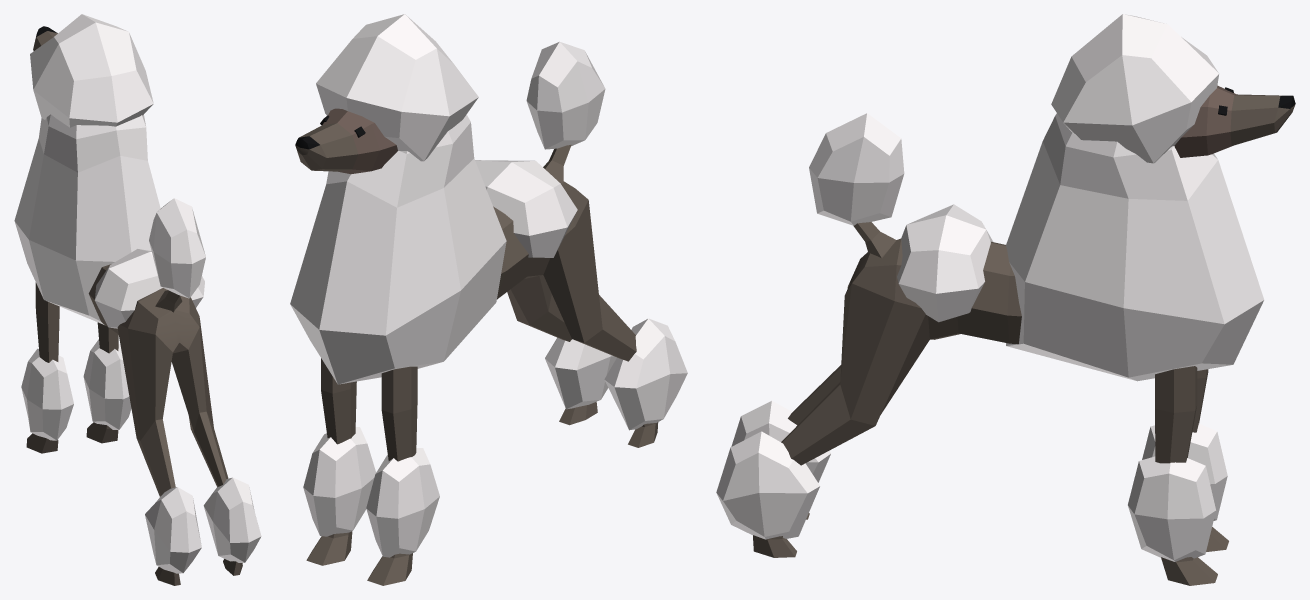
File: Mesh_Poodle.obj
3 renders of one model, left to right at view 1: azimuth 30°, elevation 25°; view 2: azimuth 150°, elevation 25°; view 3: azimuth 270°, elevation 25°, orthographic. The views are drawn at different scales.
Parts seen in each view (by area): view 1: Geo_Poodle; view 2: Geo_Poodle; view 3: Geo_Poodle.
Boxes of the visible parts, x1,y1,x2,y2 form: Geo_Poodle: (14, 14, 261, 585); Geo_Poodle: (290, 14, 687, 585); Geo_Poodle: (716, 14, 1295, 585).
Bounding box in the file's own units: 0.4108 × 1.23 × 1.19.
